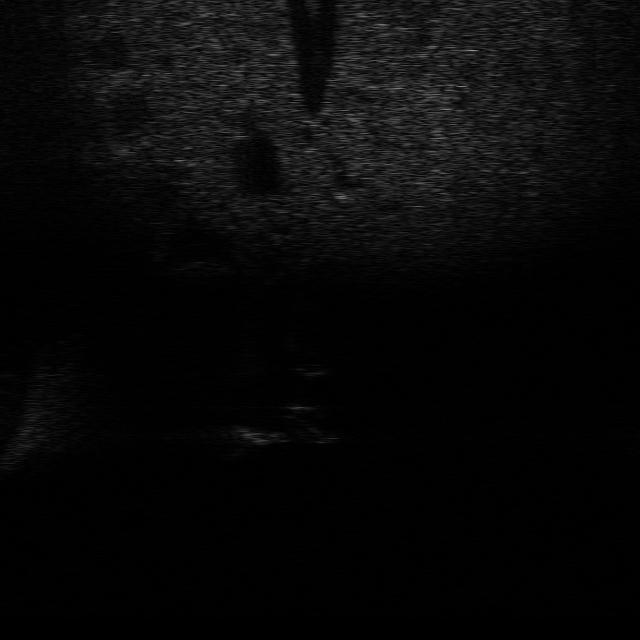ball: (280, 357, 331, 384)
square cage: (206, 418, 286, 458)
tyre: (278, 400, 348, 448)
